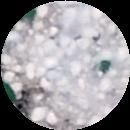Nothing: (0, 1, 130, 130)
